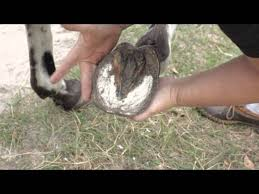horsesole: (91, 54, 159, 118)
